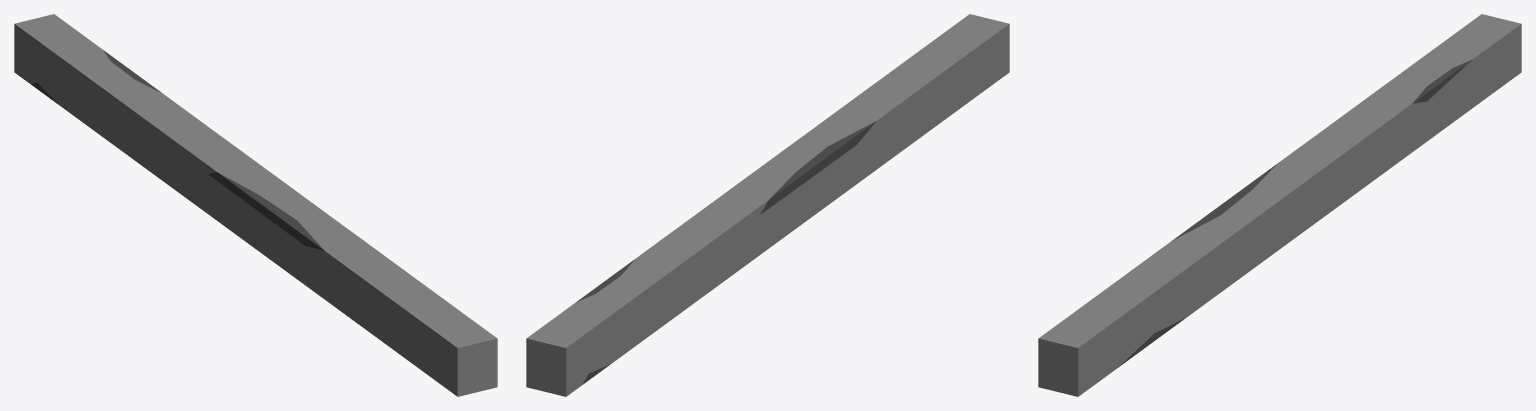
The model's file is builder_18.FBX.
3 views of the same model, side by side, from view 1: azimuth 30°, elevation 25°; view 2: azimuth 150°, elevation 25°; view 3: azimuth 330°, elevation 25° (orthographic).
Parts seen in each view (by area): view 1: builder_18; view 2: builder_18; view 3: builder_18.
Boxes of the visible parts, x1,y1,x2,y2 form: builder_18: (14,14,497,396); builder_18: (526,14,1009,396); builder_18: (1038,14,1521,396).
Size of the model in its own units: 6.97 by 8.18 by 135.
